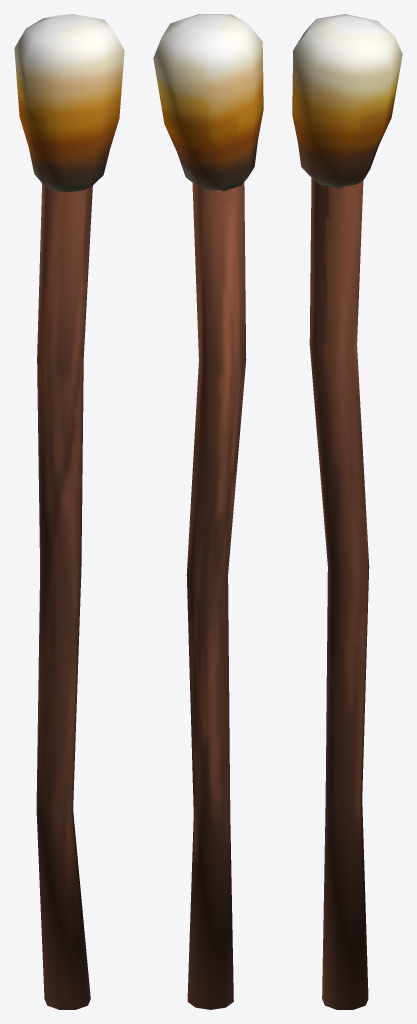
File: Torch.fbx
3 renders of one model, left to right at view 1: azimuth 90°, elevation 25°; view 2: azimuth 150°, elevation 25°; view 3: azimuth 330°, elevation 25°, orthographic.
Parts seen in each view (by area): view 1: Torch; view 2: Torch; view 3: Torch.
Part boxes in pixels (box(x1,y1,x2,y2)): Torch: box(14, 14, 124, 1009); Torch: box(153, 14, 263, 1009); Torch: box(292, 14, 402, 1009).
Bounding box in the file's own units: 40.45 × 392 × 39.98.
